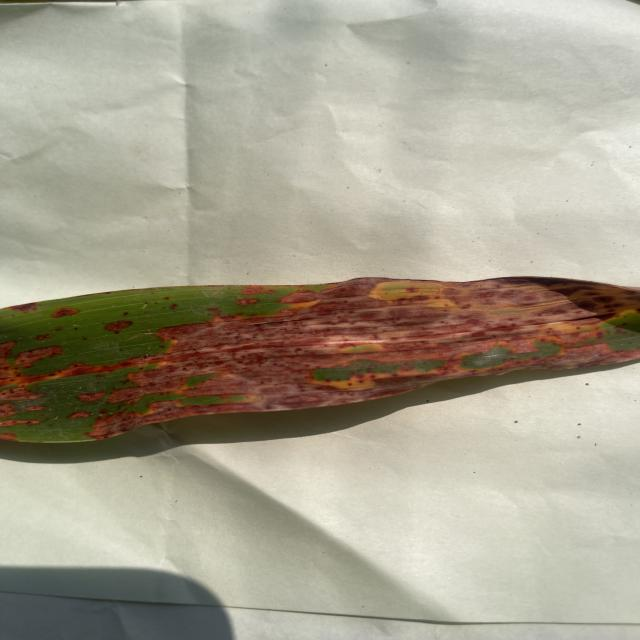millet_rust: (0, 264, 640, 443)
